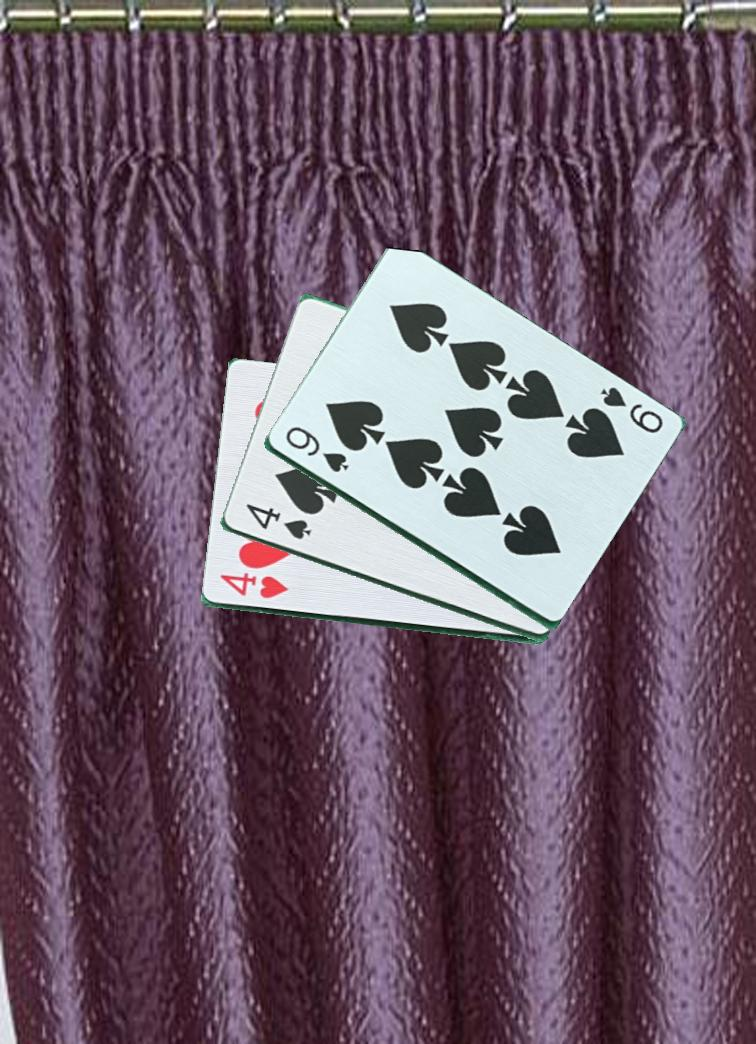4h: (216, 571, 291, 602)
4s: (242, 500, 314, 543)
9s: (596, 383, 666, 437), (281, 423, 352, 476)
